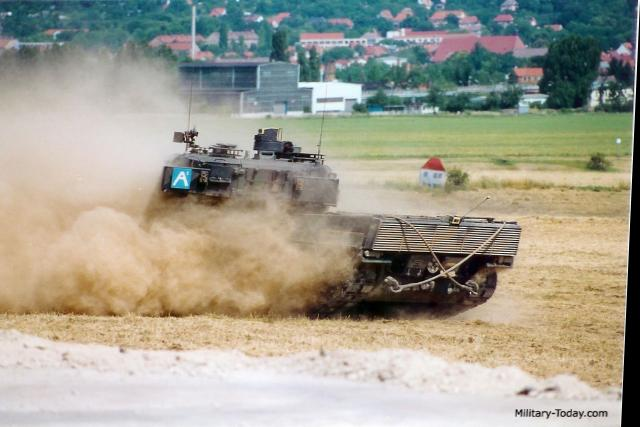tank: (134, 174, 512, 325)
